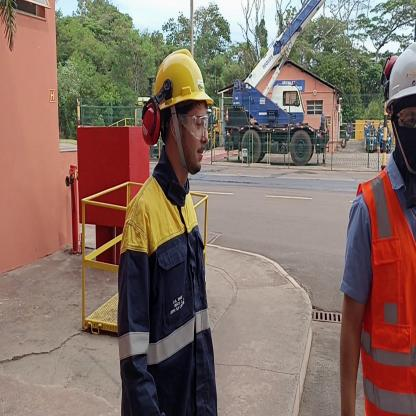Balaclava: (384, 103, 416, 191)
C_eletrica: (116, 178, 221, 416)
Capacete: (147, 45, 214, 107), (381, 49, 416, 102)
colete: (343, 180, 416, 415)
